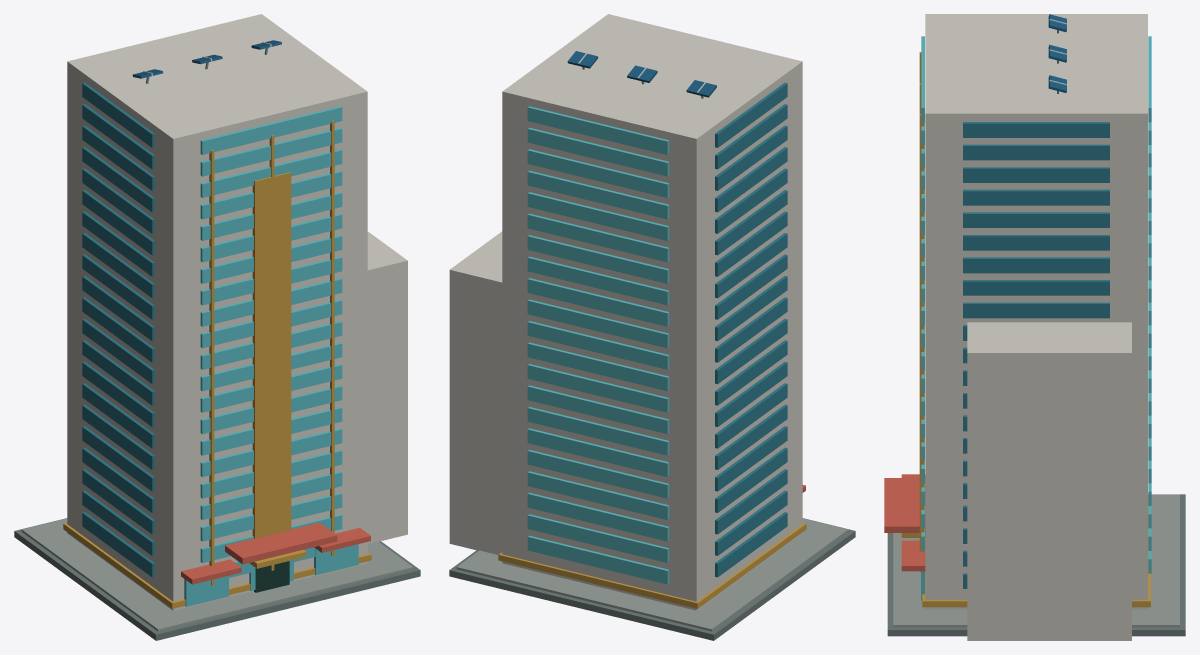
File: hotel_lv4.glb
3 views of the same model, side by side, from view 1: azimuth 30°, elevation 25°; view 2: azimuth 150°, elevation 25°; view 3: azimuth 270°, elevation 25° (orthographic). The views are drawn at different scales.
Visible parts, largest first — view 1: rough, glossy, metallic; view 2: rough, glossy, metallic; view 3: rough, glossy, metallic.
Boxes of the visible parts, bbox=[...] form: rough: bbox=[14, 14, 420, 640]; glossy: bbox=[82, 82, 358, 606]; metallic: bbox=[132, 40, 281, 83]; rough: bbox=[449, 14, 855, 640]; glossy: bbox=[527, 82, 787, 584]; metallic: bbox=[567, 51, 716, 98]; rough: bbox=[884, 14, 1185, 640]; glossy: bbox=[921, 36, 1151, 600]; metallic: bbox=[1048, 14, 1066, 93].
Size of the model in its own units: 10.73 by 17.48 by 9.2.
